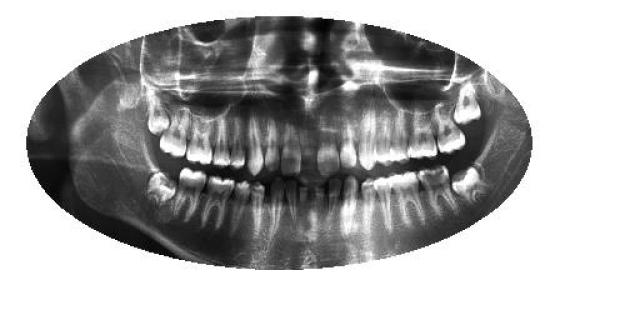Restorations: (452, 165, 486, 205), (452, 81, 482, 124), (144, 172, 178, 206), (146, 87, 170, 135)
